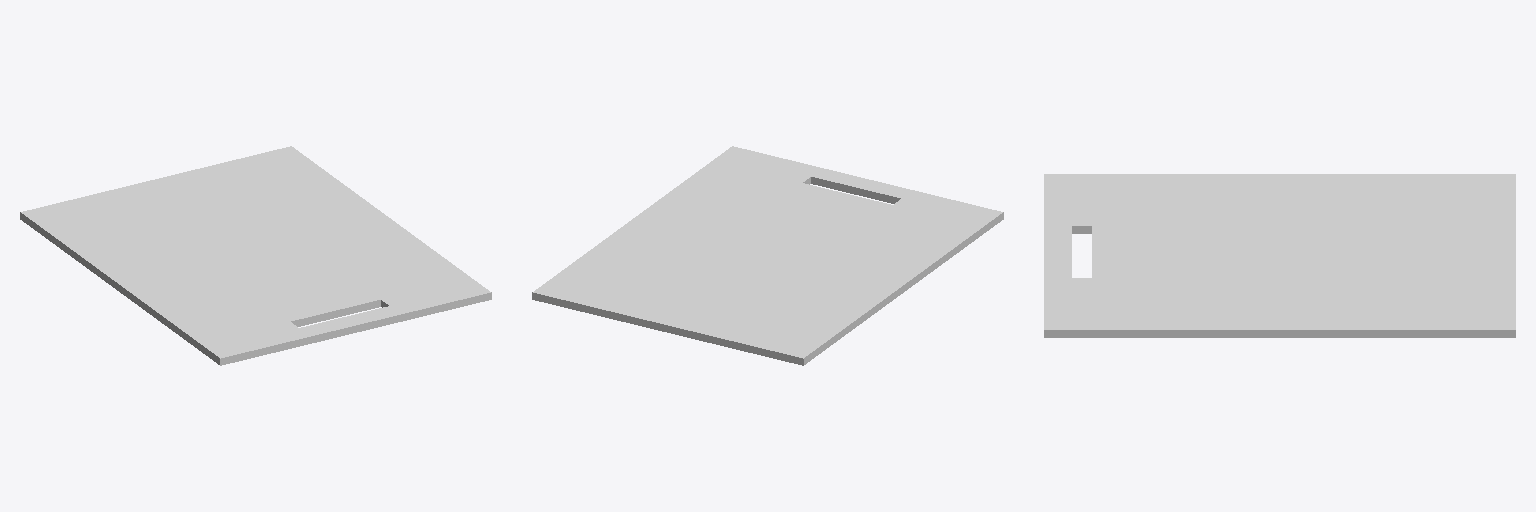
The robot description file, URDF, robot "cutting_board":
<robot name="cutting_board">
  <link name="cutting_board">
    <!-- Board -->
    <collision>
      <origin xyz="0 0.015 0.0035"/>
      <geometry>
        <box size=".27 0.31 0.007"/>
      </geometry>
    </collision>
    <visual>
      <origin xyz="0 0.015 0.0035"/>
      <material name="white">
        <color rgba="0.9 0.9 0.9 1.0"/>
      </material>
      <geometry>
        <box size="0.27 0.31 0.007"/>
      </geometry>
    </visual>

    <!-- Handle -->
    <collision>
      <origin xyz="0 -0.165 0.0035"/>
      <geometry>
        <box size=".27 0.02 0.007"/>
      </geometry>
    </collision>
    <visual>
      <origin xyz="0 -0.165 0.0035"/>
      <material name="white">
        <color rgba="0.9 0.9 0.9 1.0"/>
      </material>
      <geometry>
        <box size="0.27 0.02 0.007"/>
      </geometry>
    </visual>

    <collision>
      <origin xyz="0.09 -0.145 0.0035"/>
      <geometry>
        <box size="0.09 0.02 0.007"/>
      </geometry>
    </collision>
    <visual>
      <origin xyz="0.09 -0.145 0.0035"/>
      <material name="white">
        <color rgba="0.9 0.9 0.9 1.0"/>
      </material>
      <geometry>
        <box size="0.09 0.02 0.007"/>
      </geometry>
    </visual>

    <collision>
      <origin xyz="-0.09 -0.145 0.0035"/>
      <geometry>
        <box size="0.09 0.02 0.007"/>
      </geometry>
    </collision>
    <visual>
      <origin xyz="-0.09 -0.145 0.0035"/>
      <material name="white">
        <color rgba="0.9 0.9 0.9 1.0"/>
      </material>
      <geometry>
        <box size="0.09 0.02 0.007"/>
      </geometry>
    </visual>

  </link>
</robot>

--- What the picture shows (computed from the rendered views, not written in the file) ---
3 views of the same robot in one strip: view 1: azimuth 30°, elevation 25°; view 2: azimuth 150°, elevation 25°; view 3: azimuth 270°, elevation 25° (orthographic).
Model cutting_board with 1 links and 0 joints (none), rooted at cutting_board, posed every joint at zero.
Links seen in each view (by area): view 1: cutting_board; view 2: cutting_board; view 3: cutting_board.
Boxes of the visible links, <box> form: cutting_board: <box>20,146,491,365</box>; cutting_board: <box>532,146,1003,365</box>; cutting_board: <box>1044,174,1515,337</box>.
Bounding box of the posed robot: 0.27 × 0.345 × 0.007 m (x, y, z).
Geometry: primitives only (box / cylinder / sphere), no mesh files.